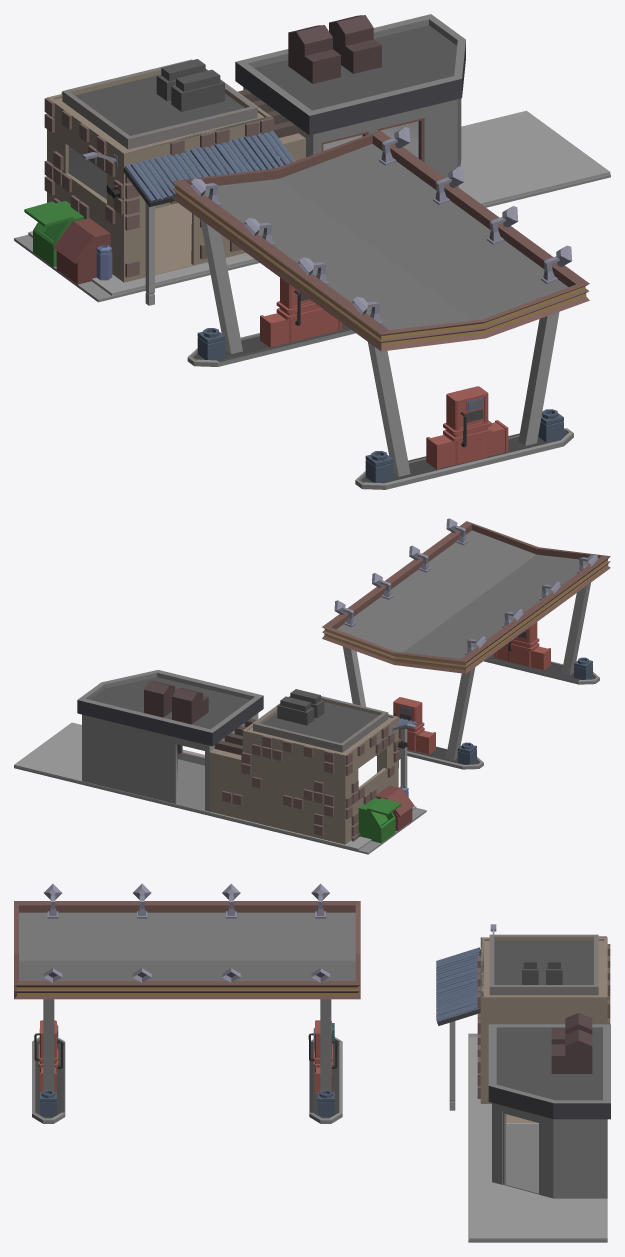
The model's file is Gas_Station.fbx.
3 renders of one model, top to bottom at view 1: azimuth 30°, elevation 25°; view 2: azimuth 150°, elevation 25°; view 3: azimuth 270°, elevation 25°, orthographic. The views are drawn at different scales.
Parts seen in each view (by area): view 1: Gas_Station, Bottom, Top; view 2: Gas_Station, Bottom, Top; view 3: Gas_Station, Bottom, Top.
Part boxes in pixels (bbox=[...]): Gas_Station: bbox=[172, 127, 589, 489]; Bottom: bbox=[14, 68, 610, 305]; Top: bbox=[47, 14, 465, 153]; Gas_Station: bbox=[322, 518, 610, 769]; Bottom: bbox=[14, 696, 426, 854]; Top: bbox=[77, 670, 398, 759]; Gas_Station: bbox=[14, 883, 360, 1123]; Bottom: bbox=[436, 924, 610, 1242]; Top: bbox=[480, 934, 610, 1119].
Bounding box in the file's own units: 22.31 × 7.87 × 26.76.
